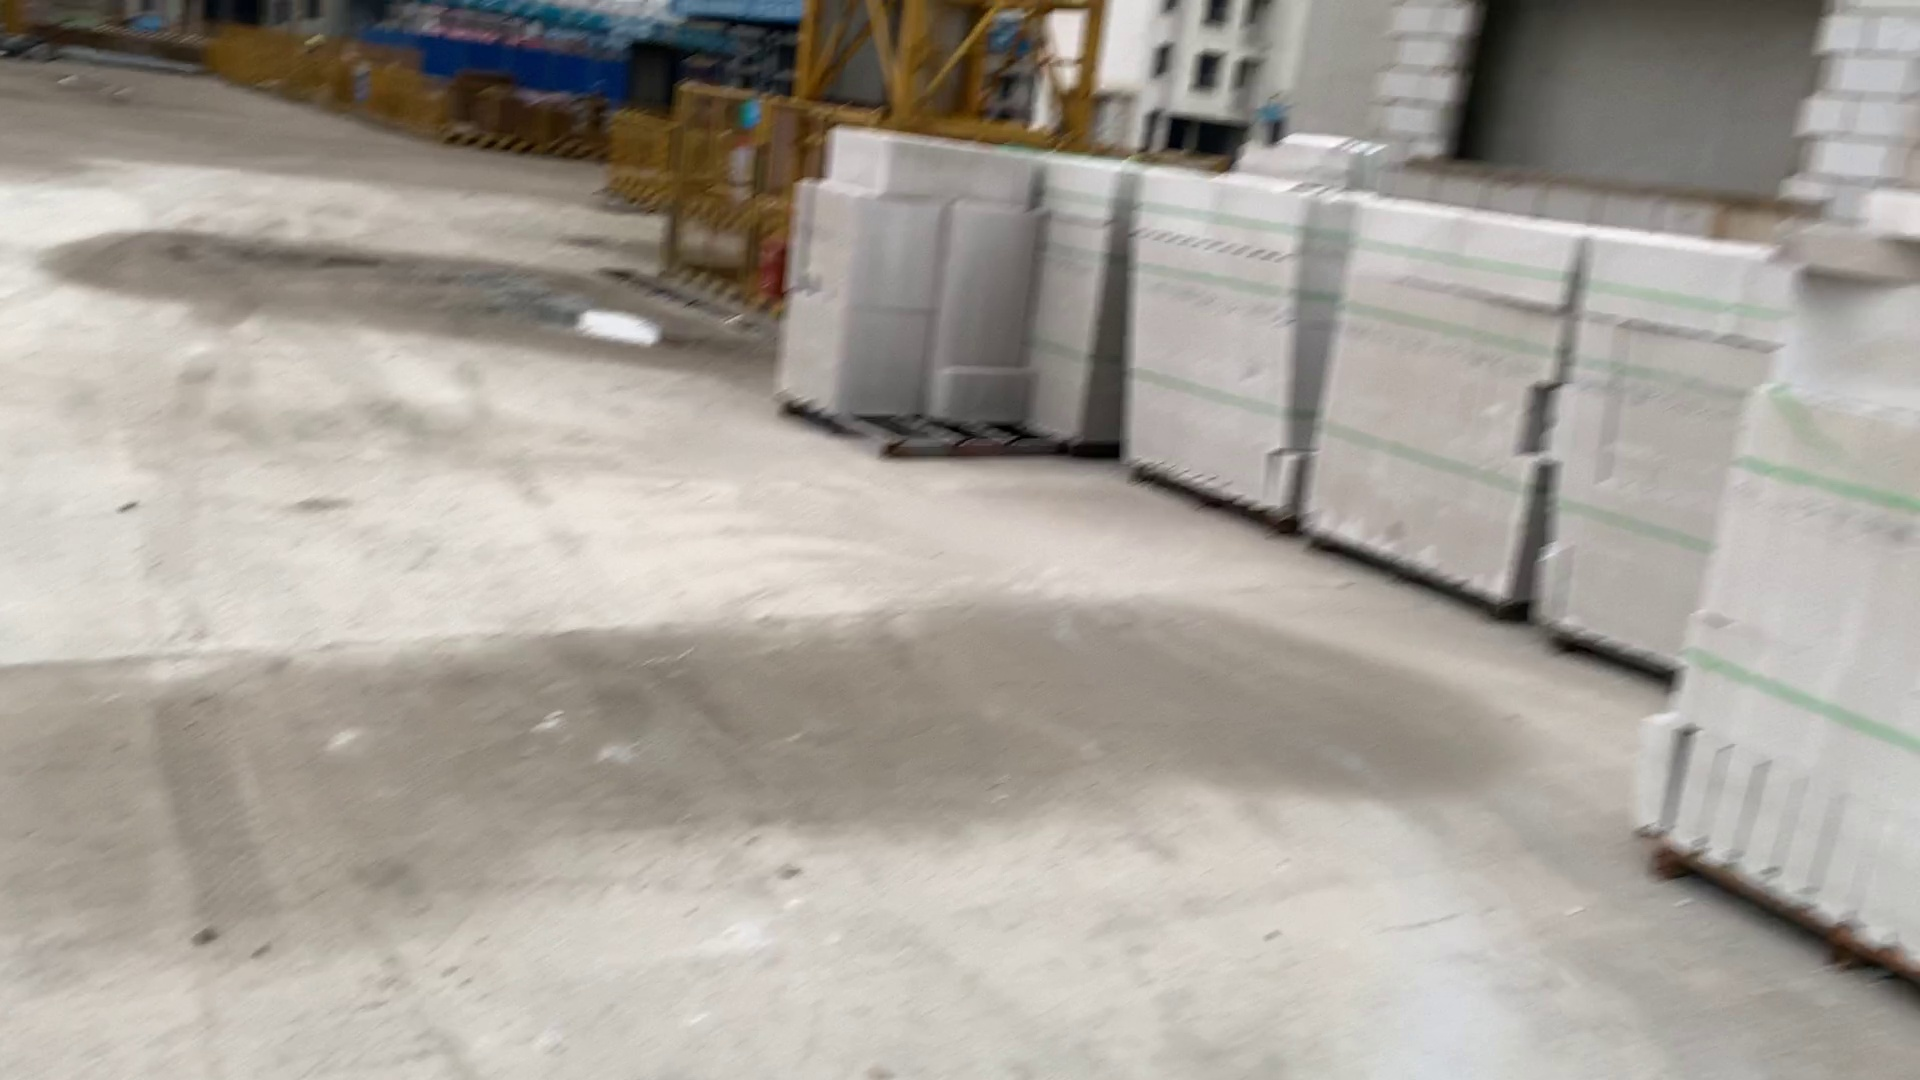brickwork: (1636, 382, 1920, 949), (1560, 235, 1784, 666), (1315, 204, 1549, 603), (766, 131, 1029, 442), (1124, 170, 1311, 527), (1023, 167, 1124, 448)
